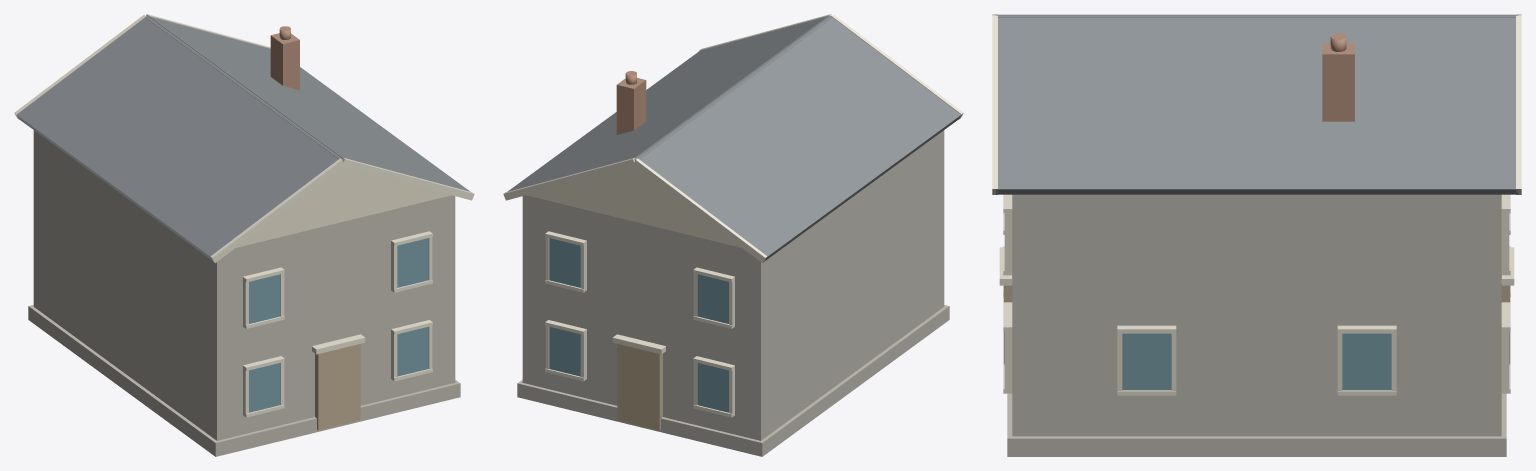
File: tyne-stone-house_lod1.glb
3 renders of one model, left to right at view 1: azimuth 30°, elevation 25°; view 2: azimuth 150°, elevation 25°; view 3: azimuth 270°, elevation 25°, orthographic. The views are drawn at different scales.
Visible parts, largest first — view 1: RF_Body, RF_Roof.001, RF_Roof, RF_Foundation, RF_Gable, RF_Door.001, RF_Vergeband.001, RF_Chimney, RF_Window.004, RF_Window.001, RF_Window.002, RF_Window.003 (+4 smaller); view 2: RF_Body, RF_Roof.001, RF_Roof, RF_Foundation, RF_Gable.001, RF_Door, RF_Chimney, RF_Vergeband.002, RF_Window.008, RF_Window.005, RF_Window.006, RF_Window.007 (+4 smaller); view 3: RF_Body, RF_Roof, RF_Foundation, RF_Window.009, RF_Window, RF_Chimney, RF_Ridge, RF_Vergeband.003, RF_Vergeband, RF_Roof.001, RF_WindowFrame.016, RF_WindowFrame.008 (+2 smaller).
Boxes of the visible parts, left/top/right/bottom form: RF_Body: left=33, top=130, right=455, bottom=440; RF_Roof.001: left=17, top=17, right=339, bottom=261; RF_Roof: left=148, top=16, right=470, bottom=191; RF_Foundation: left=28, top=305, right=460, bottom=456; RF_Gable: left=236, top=166, right=450, bottom=247; RF_Door.001: left=315, top=344, right=360, bottom=430; RF_Vergeband.001: left=210, top=158, right=344, bottom=262; RF_Chimney: left=270, top=33, right=299, bottom=90; RF_Window.004: left=397, top=238, right=428, bottom=287; RF_Window.001: left=249, top=363, right=280, bottom=412; RF_Window.002: left=249, top=274, right=280, bottom=323; RF_Window.003: left=397, top=326, right=428, bottom=376; RF_Body: left=522, top=130, right=944, bottom=440; RF_Roof.001: left=638, top=17, right=960, bottom=261; RF_Roof: left=507, top=16, right=829, bottom=191; RF_Foundation: left=517, top=305, right=949, bottom=456; RF_Gable.001: left=527, top=166, right=741, bottom=247; RF_Door: left=617, top=344, right=662, bottom=430; RF_Chimney: left=616, top=78, right=646, bottom=134; RF_Vergeband.002: left=633, top=158, right=767, bottom=262; RF_Window.008: left=549, top=238, right=580, bottom=287; RF_Window.005: left=697, top=363, right=728, bottom=412; RF_Window.006: left=697, top=274, right=728, bottom=323; RF_Window.007: left=549, top=326, right=580, bottom=376; RF_Body: left=1012, top=194, right=1501, bottom=436; RF_Roof: left=996, top=16, right=1517, bottom=194; RF_Foundation: left=1007, top=393, right=1506, bottom=456; RF_Window.009: left=1122, top=333, right=1171, bottom=390; RF_Window: left=1342, top=333, right=1391, bottom=390; RF_Chimney: left=1322, top=43, right=1354, bottom=121; RF_Ridge: left=995, top=15, right=1518, bottom=17; RF_Vergeband.003: left=992, top=15, right=997, bottom=194; RF_Vergeband: left=1516, top=15, right=1521, bottom=194; RF_Roof.001: left=996, top=14, right=1517, bottom=15; RF_WindowFrame.016: left=1501, top=207, right=1509, bottom=275; RF_WindowFrame.008: left=1004, top=207, right=1012, bottom=275.
Size of the model in its own units: 9.91 by 10.47 by 12.98.
